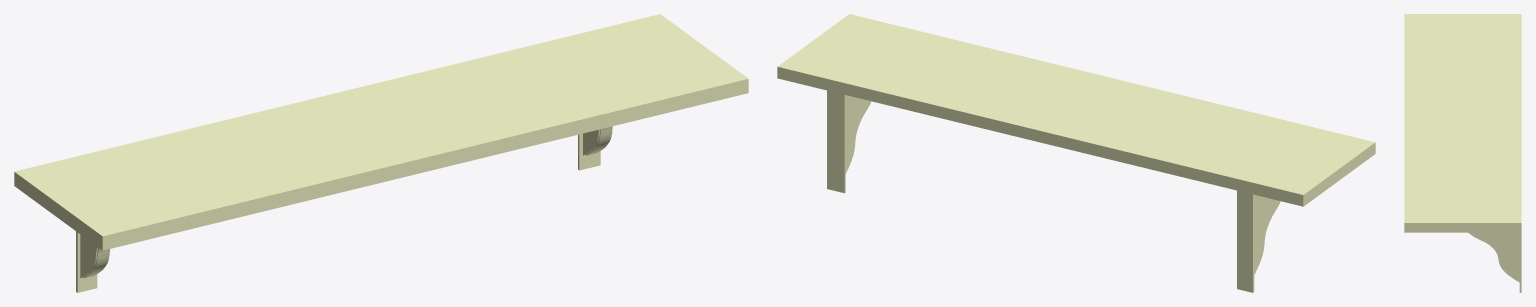
File: Shelf.FBX
3 views of the same model, side by side, from view 1: azimuth 30°, elevation 25°; view 2: azimuth 150°, elevation 25°; view 3: azimuth 270°, elevation 25° (orthographic). The views are drawn at different scales.
Visible parts, largest first — view 1: Shelf; view 2: Shelf; view 3: Shelf.
Part boxes in pixels (box(x1,y1,x2,y2)): Shelf: box(14, 14, 748, 292); Shelf: box(777, 14, 1375, 292); Shelf: box(1404, 14, 1521, 292).
Size of the model in its own units: 118 by 23.62 by 28.
